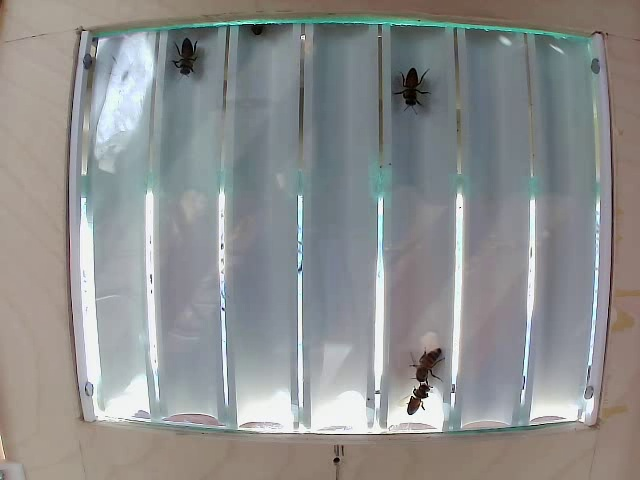bee: (165, 40, 216, 97), (391, 62, 433, 114), (409, 338, 451, 368)
